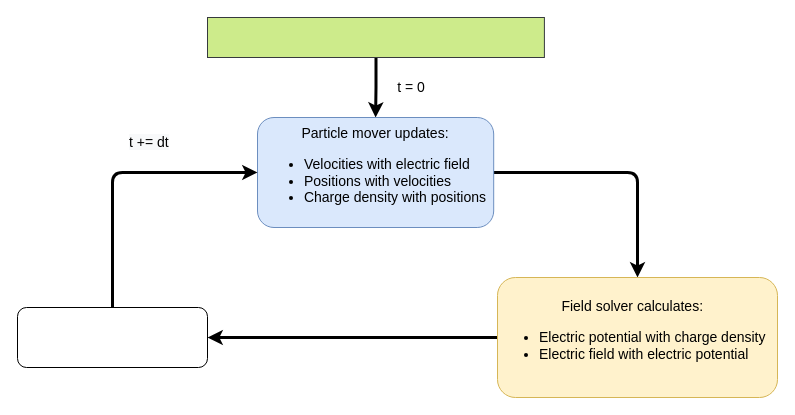
The diagram is 795 pixels wide and 415 high, and some of its shapes have lost their labels. The centre of each missing label's shape, as x and y in pixels:
"Diagnostics: saves solutions" belongs at (112,337).
"Initial distribution of position and velocities of particles" belongs at (375,37).
